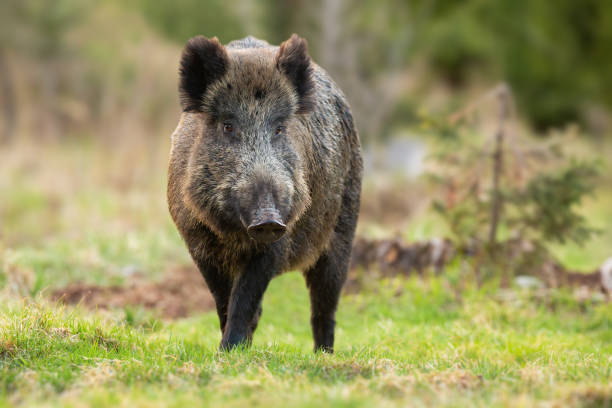pig: (164, 29, 360, 354)
